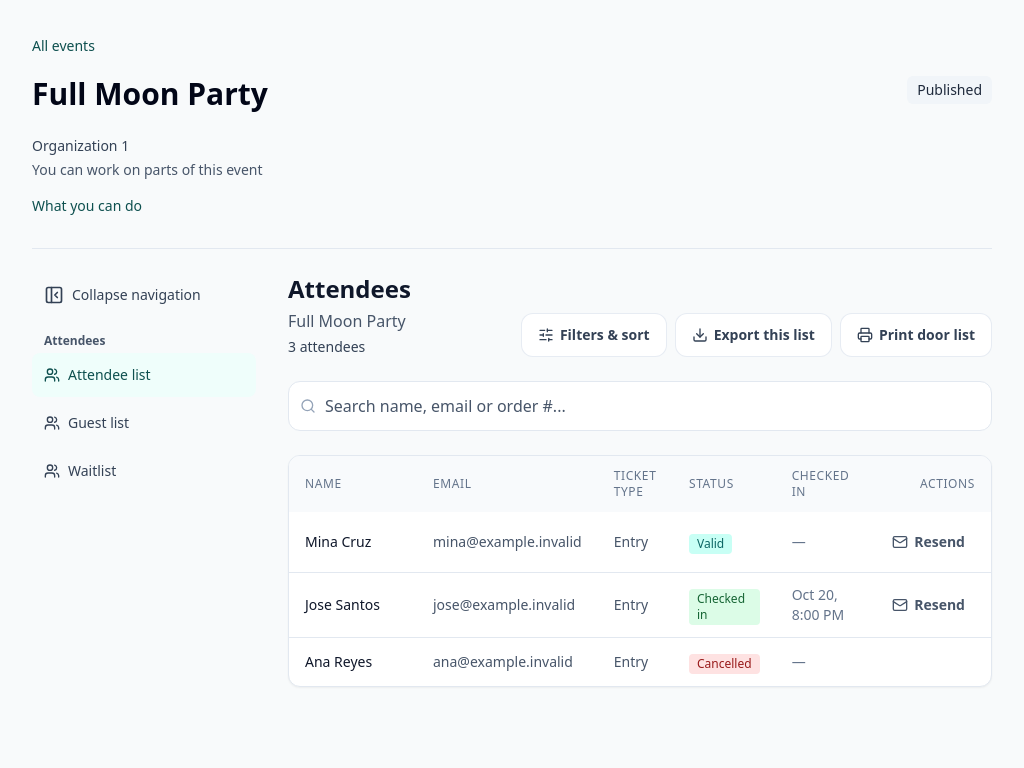
it: attendee row actions › keeps the confirmation open with the server reason when a resend fails
The image size is (1024, 768).
Click the button with aria-label "Resend ticket to Mina Cruz": (929, 542) [882,524,975,560]
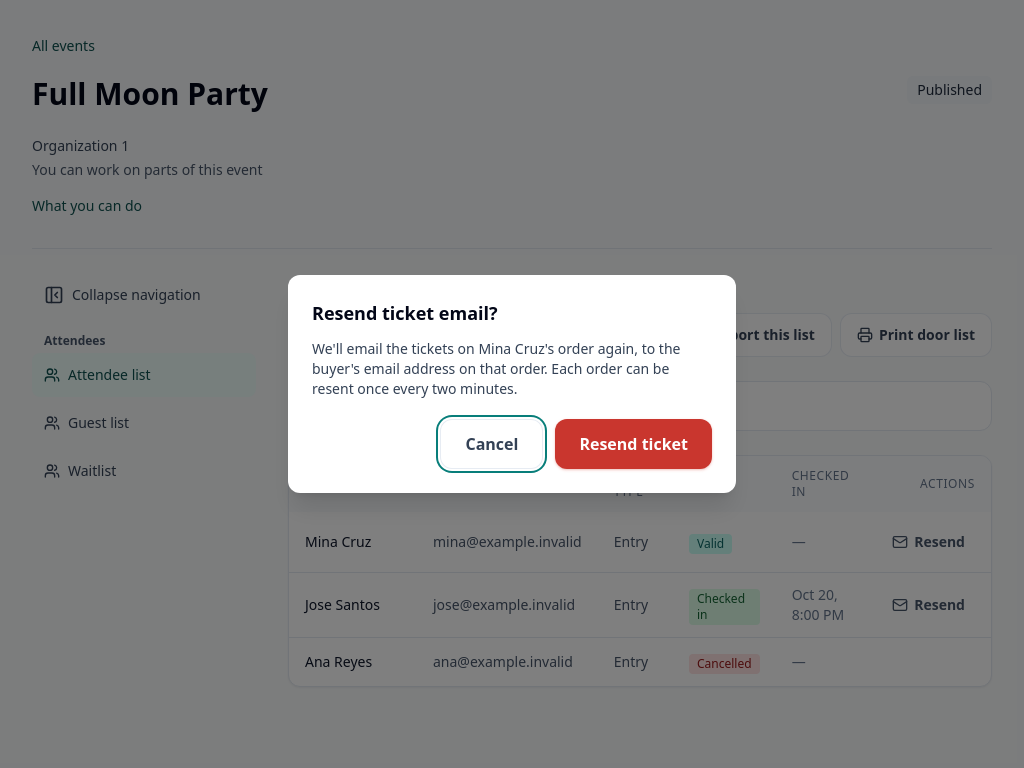
Click the button "Resend ticket": (634, 444) [555,419,712,469]
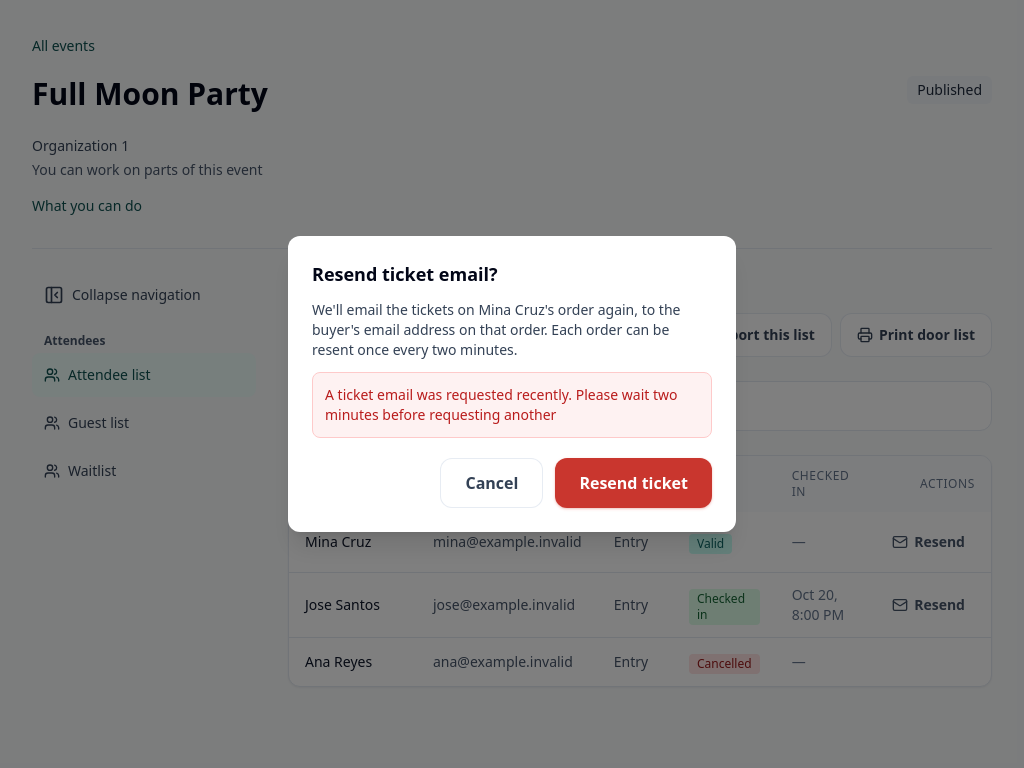
expect the text "Mina Cruz" is shown: met, box [289,512,417,572]
expect the button "Resend ticket" is enabled: met, box [555,458,712,508]
expect the message shows "wait two minutes": met, box [325,385,678,424]
